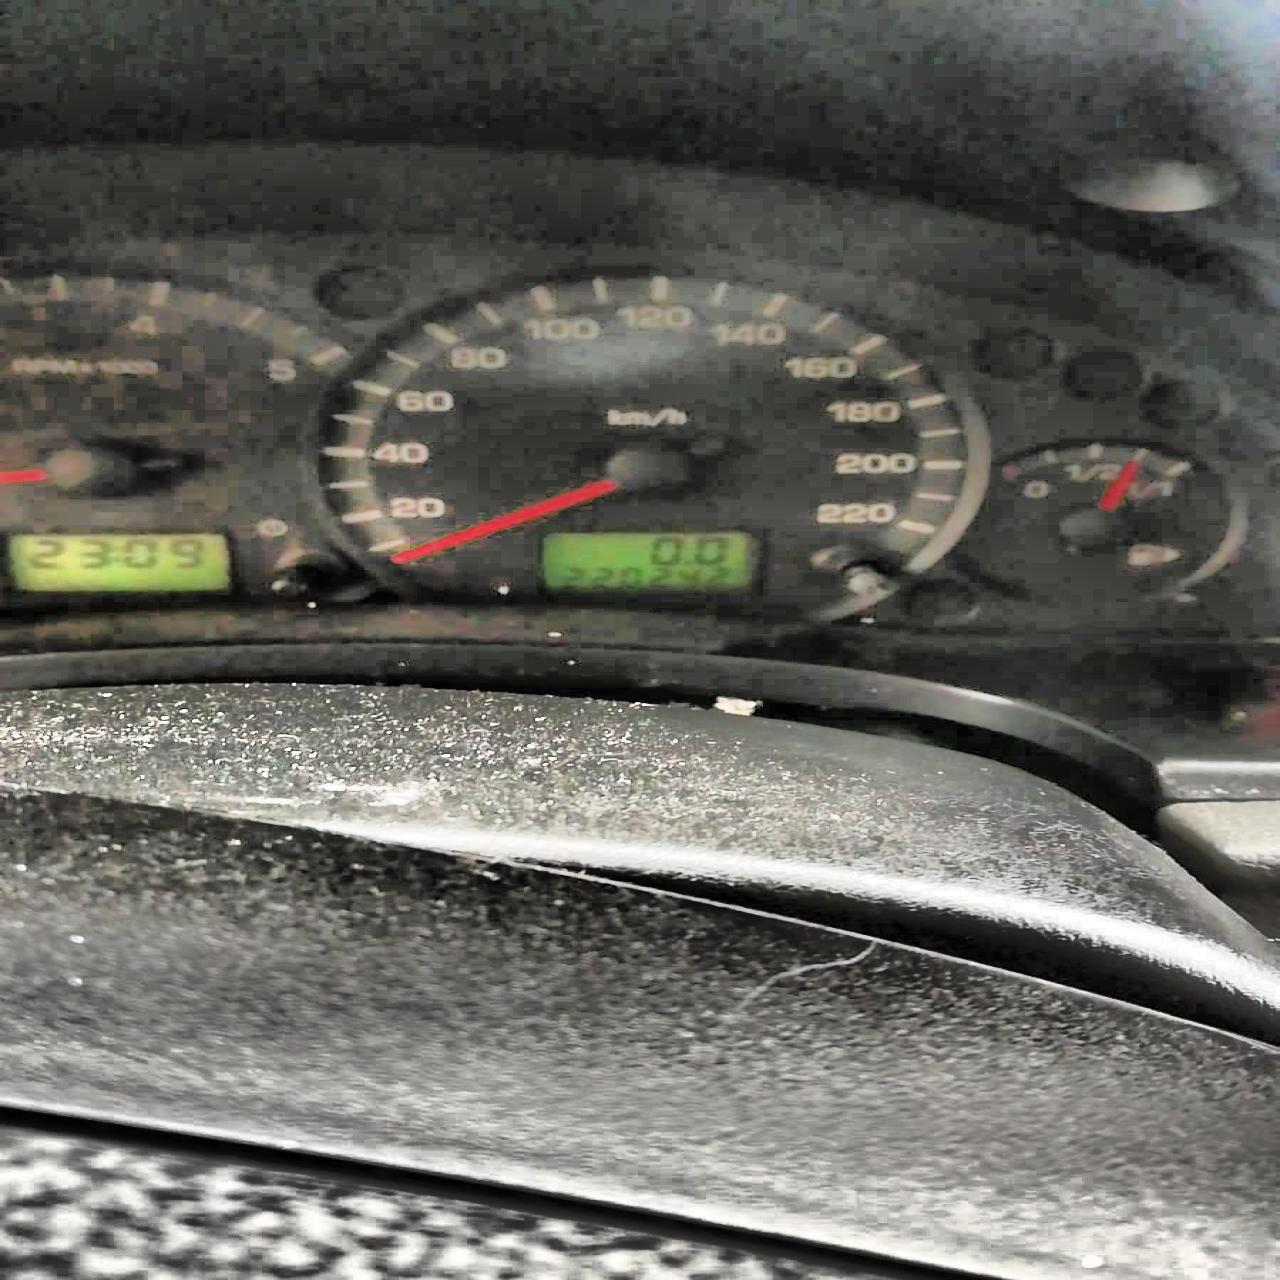0: (649, 536, 683, 565), (694, 535, 728, 564), (618, 566, 644, 587)
2: (647, 566, 674, 587), (588, 566, 614, 587), (563, 566, 586, 587), (702, 566, 727, 586)
4: (676, 566, 701, 587)
odometer: (532, 526, 758, 593)
